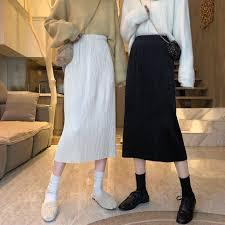skirt: (120, 35, 184, 163), (61, 38, 116, 169)
sweater: (44, 1, 122, 39), (122, 0, 197, 38)
